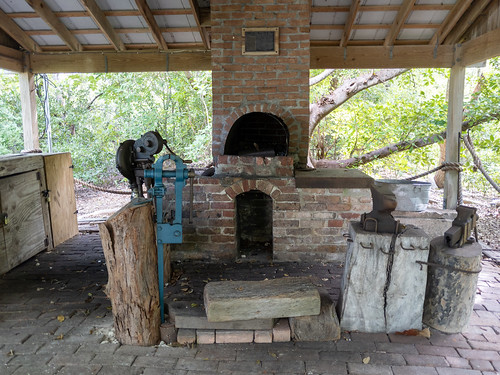anvil: (359, 177, 406, 236), (440, 200, 480, 246)
oven: (158, 1, 372, 273)
vegetation: (314, 66, 500, 170), (1, 78, 207, 167)
